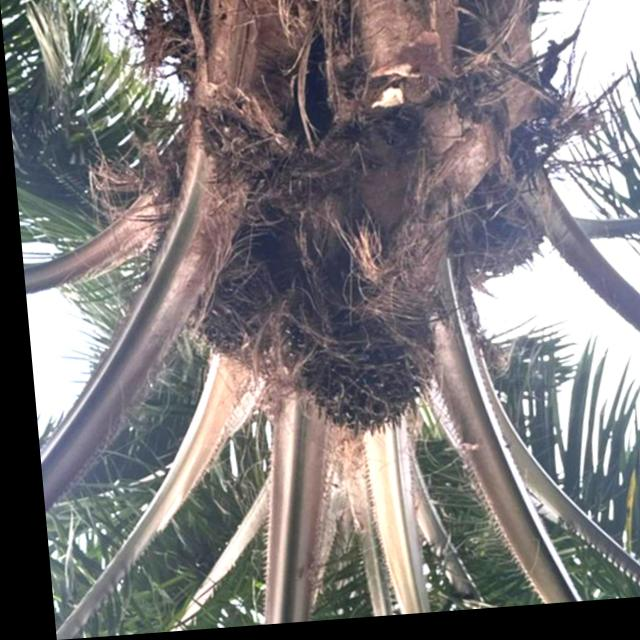unripe: (268, 323, 428, 452), (434, 199, 550, 299), (176, 272, 265, 377)
